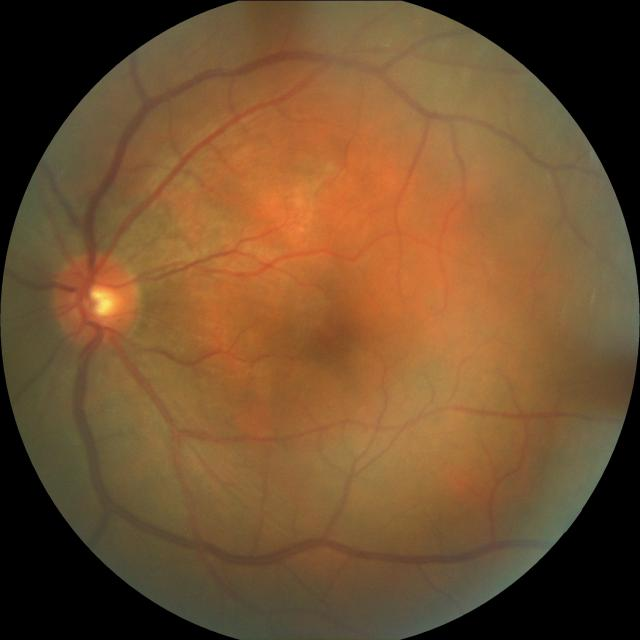OC: (78, 280, 119, 325)
OD: (49, 248, 141, 348)
